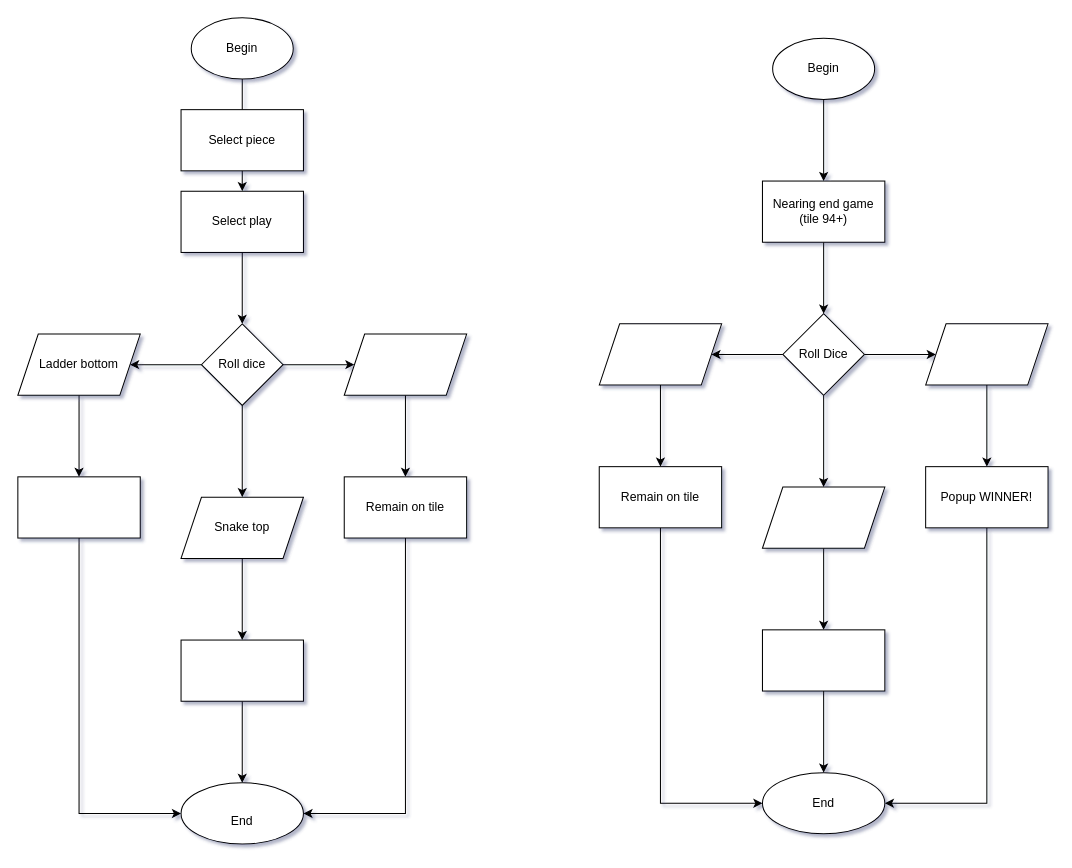
Some shapes in this 1072 by 868 pixel diagram are drawn without their labels. The shapes that lost their labels are listed below. From the top down, each one's centre as x and y in pixels, then its label:
pixel 405 364: Normal tile
pixel 660 354: Goes beyond 100
pixel 986 354: Land on 100
pixel 78 507: Move to ladder top
pixel 823 517: Less than 100
pixel 241 670: Move to snake bottom
pixel 823 660: As per normal
